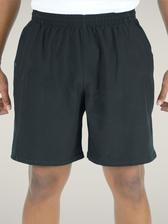clothoes: (9, 11, 162, 168)
